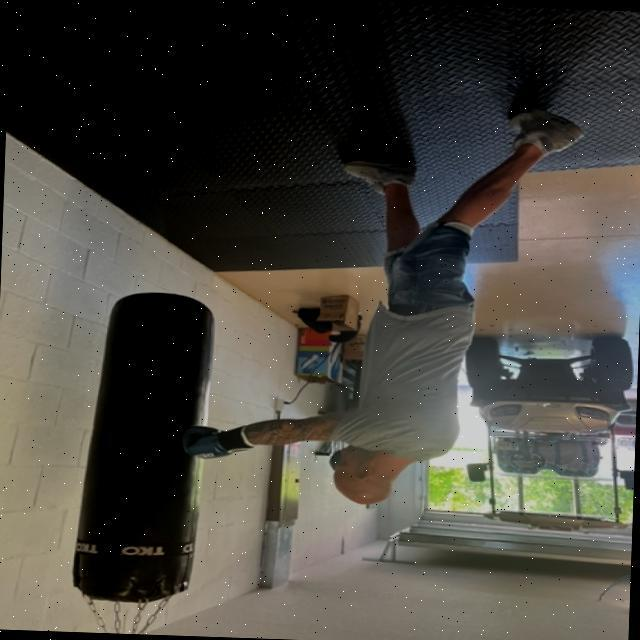cross: (162, 402, 474, 526)
